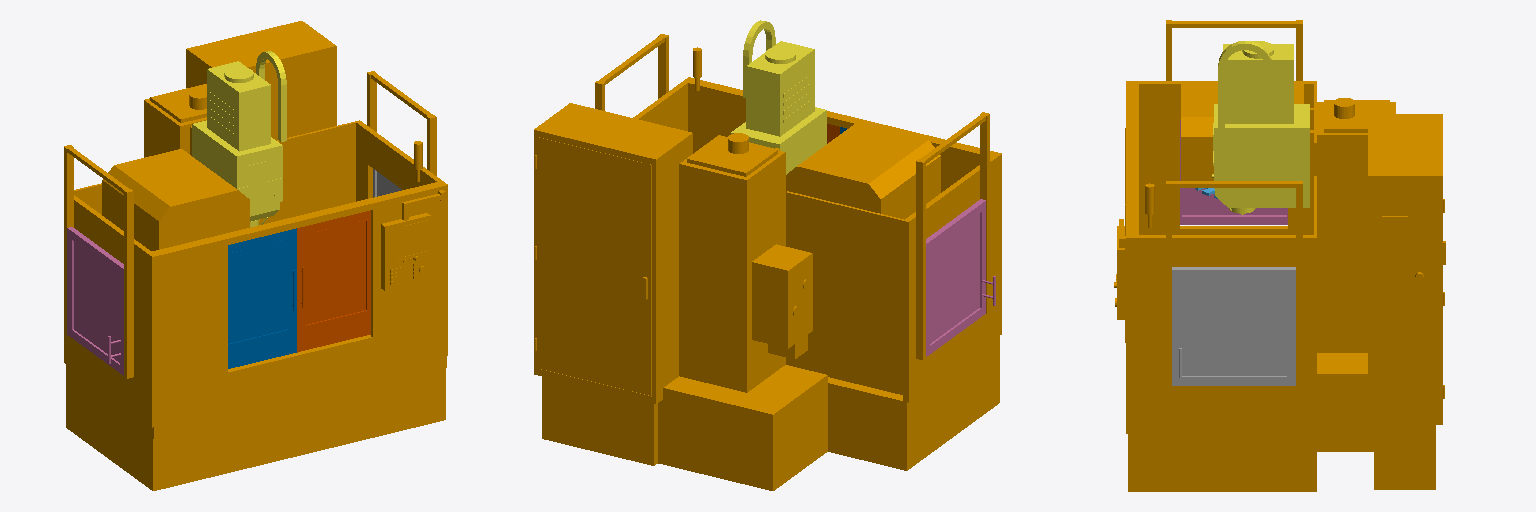
The robot description file, URDF, robot "haas_vf_2_reference":
<?xml version="1.0"?>
<robot name="haas_vf_2_reference">
<link name="body"><visual ><geometry ><mesh filename="../meshes/body.obj"/></geometry></visual><collision ><origin xyz="0 -0.3925 0.3" rpy="0 0 0"/><geometry ><box size="2.236 1.199 0.6"/></geometry></collision><collision ><origin xyz="-1.138 -0.3925 0.709" rpy="0 0 0"/><geometry ><box size="0.04 1.199 0.218"/></geometry></collision><collision ><origin xyz="-1.138 -0.3925 1.6925" rpy="0 0 0"/><geometry ><box size="0.04 1.199 0.251"/></geometry></collision><collision ><origin xyz="-1.138 -0.8215 1.1925" rpy="0 0 0"/><geometry ><box size="0.04 0.341 0.749"/></geometry></collision><collision ><origin xyz="-1.138 0.1165 1.1925" rpy="0 0 0"/><geometry ><box size="0.04 0.181 0.749"/></geometry></collision><collision ><origin xyz="-0.84125 -0.952 1.2935" rpy="0 0 0"/><geometry ><box size="0.5535 0.08 0.953"/></geometry></collision><collision ><origin xyz="1.138 -0.3925 0.709" rpy="0 0 0"/><geometry ><box size="0.04 1.199 0.218"/></geometry></collision><collision ><origin xyz="1.138 -0.3925 1.6925" rpy="0 0 0"/><geometry ><box size="0.04 1.199 0.251"/></geometry></collision><collision ><origin xyz="1.138 -0.8215 1.1925" rpy="0 0 0"/><geometry ><box size="0.04 0.341 0.749"/></geometry></collision><collision ><origin xyz="1.138 0.1165 1.1925" rpy="0 0 0"/><geometry ><box size="0.04 0.181 0.749"/></geometry></collision><collision ><origin xyz="0.84125 -0.952 1.2935" rpy="0 0 0"/><geometry ><box size="0.5535 0.08 0.953"/></geometry></collision><collision ><origin xyz="0 -0.952 0.7085" rpy="0 0 0"/><geometry ><box size="2.236 0.08 0.217"/></geometry></collision><collision ><origin xyz="0 -0.952 1.794" rpy="0 0 0"/><geometry ><box size="2.236 0.08 0.048"/></geometry></collision><collision ><origin xyz="0 0.4535 1.1065" rpy="0 0 0"/><geometry ><box size="0.5 0.493 2.213"/></geometry></collision><collision ><origin xyz="0.705 0.757 1.1235" rpy="0 0 0"/><geometry ><box size="0.906 0.47 2.247"/></geometry></collision><collision ><origin xyz="-0.55 -0.26 1.775" rpy="0 0 0"/><geometry ><box size="0.71 0.77 0.4"/></geometry></collision><collision ><origin xyz="0.808 -1.0195 1.411" rpy="0 0 0"/><geometry ><box size="0.36 0.051 0.48"/></geometry></collision></link>
<link name="saddle"><visual ><geometry ><mesh filename="../meshes/saddle.obj"/></geometry></visual><collision ><origin xyz="0 0 0.0685" rpy="0 0 0"/><geometry ><box size="0.64 0.42 0.137"/></geometry></collision></link>
<link name="table"><visual ><geometry ><mesh filename="../meshes/table.obj"/></geometry></visual><collision ><origin xyz="0 0 -0.0415" rpy="0 0 0"/><geometry ><box size="0.914 0.368 0.083"/></geometry></collision></link>
<link name="head"><visual ><geometry ><mesh filename="../meshes/head.obj"/></geometry></visual><collision ><origin xyz="0 0.12225 0.3775" rpy="0 0 0"/><geometry ><box size="0.36 0.6045 0.559"/></geometry></collision><collision ><origin xyz="0 0.10075 0.892" rpy="0 0 0"/><geometry ><box size="0.25 0.4415 0.47"/></geometry></collision><collision ><origin xyz="0 0 0.049" rpy="0 0 0"/><geometry ><cylinder radius="0.096" length="0.098"/></geometry></collision></link>
<link name="front_door_left"><visual ><geometry ><mesh filename="../meshes/front_door_left.obj"/></geometry></visual><collision ><origin xyz="-0.0005 0 0" rpy="0 0 0"/><geometry ><box size="0.599 0.025 0.949"/></geometry></collision></link>
<link name="front_door_right"><visual ><geometry ><mesh filename="../meshes/front_door_right.obj"/></geometry></visual><collision ><origin xyz="0.0005 0 0" rpy="0 0 0"/><geometry ><box size="0.599 0.025 0.949"/></geometry></collision></link>
<link name="side_door_left"><visual ><geometry ><mesh filename="../meshes/side_door_left.obj"/></geometry></visual><collision ><origin xyz="0 0 0" rpy="0 0 0"/><geometry ><box size="0.04 0.777 0.798"/></geometry></collision></link>
<link name="side_door_right"><visual ><geometry ><mesh filename="../meshes/side_door_right.obj"/></geometry></visual><collision ><origin xyz="0 0 0" rpy="0 0 0"/><geometry ><box size="0.04 0.777 0.798"/></geometry></collision></link>
<link name="tool_shuttle"><visual ><geometry ><mesh filename="../meshes/tool_shuttle.obj"/></geometry></visual><collision ><origin xyz="0 0 0.039" rpy="0 0 0"/><geometry ><cylinder radius="0.195" length="0.086"/></geometry></collision></link>
<link name="tool_carousel"><visual ><geometry ><mesh filename="../meshes/tool_carousel.obj"/></geometry></visual><collision ><origin xyz="0 0 -0.014" rpy="0 0 0"/><geometry ><cylinder radius="0.331" length="0.02"/></geometry></collision></link>
<joint name="y" type="prismatic"><parent link="body"/><child link="saddle"/><origin xyz="0 -0.473 0.631" rpy="0 0 0"/><axis xyz="0 -1 0"/><limit lower="-0.406" upper="0" velocity="0.42333" effort="0"/></joint>
<joint name="x" type="prismatic"><parent link="saddle"/><child link="table"/><origin xyz="-0.381 0 0.222" rpy="0 0 0"/><axis xyz="-1 0 0"/><limit lower="-0.762" upper="0" velocity="0.42333" effort="0"/></joint>
<joint name="z" type="prismatic"><parent link="body"/><child link="head"/><origin xyz="0 -0.2615 1.463" rpy="0 0 0"/><axis xyz="0 0 1"/><limit lower="-0.508" upper="0" velocity="0.42333" effort="0"/></joint>
<joint name="front_door_left" type="prismatic"><parent link="body"/><child link="front_door_left"/><origin xyz="-0.3 -0.9375 1.2935" rpy="0 0 0"/><axis xyz="-1 0 0"/><limit lower="0" upper="0.4695" velocity="0.4" effort="0"/></joint>
<joint name="front_door_right" type="prismatic"><parent link="body"/><child link="front_door_right"/><origin xyz="0.3 -0.9375 1.2935" rpy="0 0 0"/><axis xyz="1 0 0"/><limit lower="0" upper="0.4695" velocity="0.4" effort="0"/></joint>
<joint name="side_door_left" type="prismatic"><parent link="body"/><child link="side_door_left"/><origin xyz="-1.188 -0.3125 1.218" rpy="0 0 0"/><axis xyz="0 0 1"/><limit lower="0" upper="0.595" velocity="0.4" effort="0"/></joint>
<joint name="side_door_right" type="prismatic"><parent link="body"/><child link="side_door_right"/><origin xyz="1.188 -0.3125 1.218" rpy="0 0 0"/><axis xyz="0 0 1"/><limit lower="0" upper="0.595" velocity="0.4" effort="0"/></joint>
<joint name="tool_shuttle" type="prismatic"><parent link="body"/><child link="tool_shuttle"/><origin xyz="-0.522 -0.2615 1.463" rpy="0 0 0"/><axis xyz="1 0 0"/><limit lower="0" upper="0.2295" velocity="0.3" effort="0"/></joint>
<joint name="tool_carousel" type="continuous"><parent link="tool_shuttle"/><child link="tool_carousel"/><origin xyz="0 0 0" rpy="0 0 0"/><axis xyz="0 0 1"/><limit velocity="3" effort="0"/></joint>
</robot>

--- Render facts (derived) ---
Views: 3 orthographic renders of the robot side by side, from view 1: azimuth 30°, elevation 25°; view 2: azimuth 150°, elevation 25°; view 3: azimuth 270°, elevation 25°.
Robot: haas_vf_2_reference — 10 links, 9 joints (1 continuous, 8 prismatic); root link body; default pose: all joints at 0.
Visible links, largest first — view 1: body, head, front_door_right, front_door_left, side_door_left; view 2: body, head, side_door_left; view 3: body, side_door_right, head, side_door_left.
Boxes of the visible links, <box> form: body: <box>64,21,447,490</box>; head: <box>192,51,286,227</box>; front_door_right: <box>297,210,370,352</box>; front_door_left: <box>228,228,296,368</box>; side_door_left: <box>67,227,123,375</box>; body: <box>534,34,1001,490</box>; head: <box>731,20,826,174</box>; side_door_left: <box>926,199,995,356</box>; body: <box>1114,20,1445,491</box>; side_door_right: <box>1172,267,1295,385</box>; head: <box>1212,41,1309,214</box>; side_door_left: <box>1180,120,1287,224</box>.
Bounding box of the posed robot: 2.62 × 2.08 × 2.72 m (x, y, z).
Meshes: 10 distinct files referenced, 10 mesh visuals loaded (10 OBJ).
